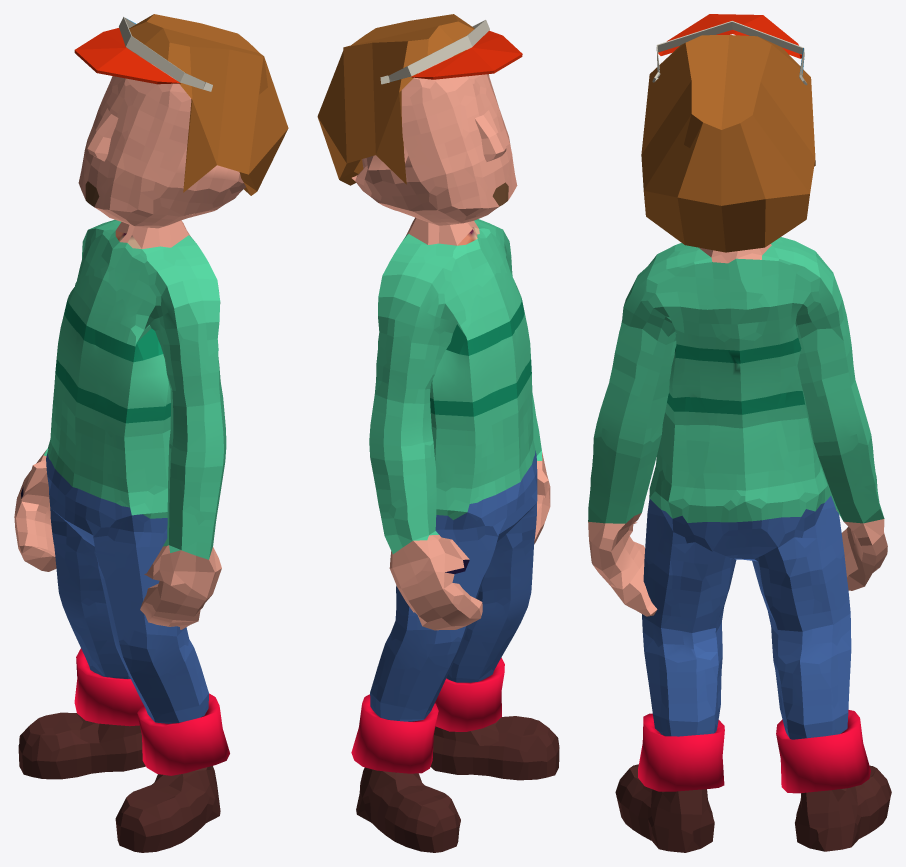
File: NPC_Guitarist.obj
3 renders of one model, left to right at view 1: azimuth 30°, elevation 25°; view 2: azimuth 150°, elevation 25°; view 3: azimuth 270°, elevation 25°, orthographic. The views are drawn at different scales.
Parts seen in each view (by area): view 1: Humanoide_Base_Humanoide_Base_Base_NPC__characterMedium_3e8_Huma, Hair_cop_hair_Cylinder.001_Hair_cop_hair_Cylinder.001_G_602_Hair, calentador_1_Scarf_1_calentador_1_Scarf_1_GuitaristMaterial.001_, Gorra__cop_hair_Cylinder.000_Gorra__cop_hair_Cylinder.0_5c9_Gorr, calentador_2_Scarf_1.001_calentador_2_Scarf_1.001_Guita_4b9_cale, nariz_nariz_nariz_nariz_1.003_nariz_nariz_nariz_nariz_1_381_nari; view 2: Humanoide_Base_Humanoide_Base_Base_NPC__characterMedium_3e8_Huma, Hair_cop_hair_Cylinder.001_Hair_cop_hair_Cylinder.001_G_602_Hair, calentador_2_Scarf_1.001_calentador_2_Scarf_1.001_Guita_4b9_cale, Gorra__cop_hair_Cylinder.000_Gorra__cop_hair_Cylinder.0_5c9_Gorr, calentador_1_Scarf_1_calentador_1_Scarf_1_GuitaristMaterial.001_, nariz_nariz_nariz_nariz_1.003_nariz_nariz_nariz_nariz_1_381_nari; view 3: Humanoide_Base_Humanoide_Base_Base_NPC__characterMedium_3e8_Huma, Hair_cop_hair_Cylinder.001_Hair_cop_hair_Cylinder.001_G_602_Hair, calentador_2_Scarf_1.001_calentador_2_Scarf_1.001_Guita_4b9_cale, calentador_1_Scarf_1_calentador_1_Scarf_1_GuitaristMaterial.001_, Gorra__cop_hair_Cylinder.000_Gorra__cop_hair_Cylinder.0_5c9_Gorr.
Boxes of the visible parts, x1,y1,x2,y2 form: Humanoide_Base_Humanoide_Base_Base_NPC__characterMedium_3e8_Huma: [14, 48, 245, 852]; Hair_cop_hair_Cylinder.001_Hair_cop_hair_Cylinder.001_G_602_Hair: [129, 14, 288, 195]; calentador_1_Scarf_1_calentador_1_Scarf_1_GuitaristMaterial.001_: [137, 693, 229, 775]; Gorra__cop_hair_Cylinder.000_Gorra__cop_hair_Cylinder.0_5c9_Gorr: [74, 17, 212, 91]; calentador_2_Scarf_1.001_calentador_2_Scarf_1.001_Guita_4b9_cale: [74, 648, 143, 726]; nariz_nariz_nariz_nariz_1.003_nariz_nariz_nariz_nariz_1_381_nari: [86, 108, 118, 161]; Humanoide_Base_Humanoide_Base_Base_NPC__characterMedium_3e8_Huma: [352, 45, 559, 852]; Hair_cop_hair_Cylinder.001_Hair_cop_hair_Cylinder.001_G_602_Hair: [317, 14, 489, 185]; calentador_2_Scarf_1.001_calentador_2_Scarf_1.001_Guita_4b9_cale: [351, 694, 438, 773]; Gorra__cop_hair_Cylinder.000_Gorra__cop_hair_Cylinder.0_5c9_Gorr: [380, 20, 522, 84]; calentador_1_Scarf_1_calentador_1_Scarf_1_GuitaristMaterial.001_: [435, 657, 504, 731]; nariz_nariz_nariz_nariz_1.003_nariz_nariz_nariz_nariz_1_381_nari: [474, 110, 506, 161]; Humanoide_Base_Humanoide_Base_Base_NPC__characterMedium_3e8_Huma: [588, 237, 891, 852]; Hair_cop_hair_Cylinder.001_Hair_cop_hair_Cylinder.001_G_602_Hair: [641, 35, 815, 252]; calentador_2_Scarf_1.001_calentador_2_Scarf_1.001_Guita_4b9_cale: [776, 709, 870, 793]; calentador_1_Scarf_1_calentador_1_Scarf_1_GuitaristMaterial.001_: [638, 713, 724, 791]; Gorra__cop_hair_Cylinder.000_Gorra__cop_hair_Cylinder.0_5c9_Gorr: [652, 14, 807, 85].
Bounding box in the file's own units: 10.49 × 38.85 × 13.28.
